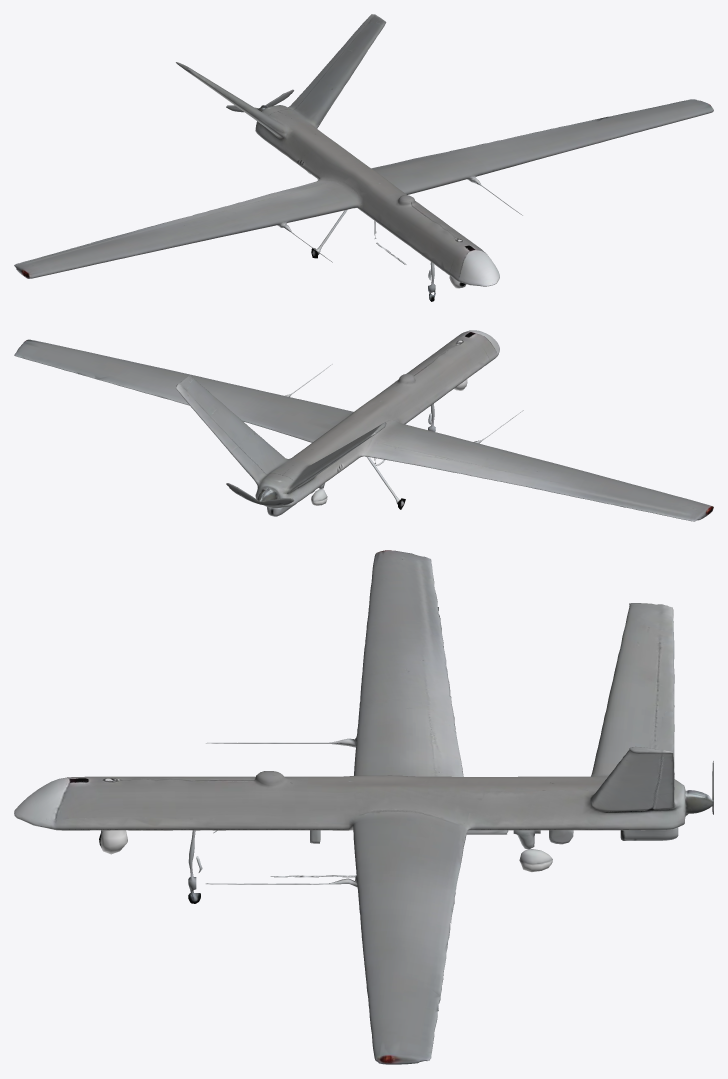
The model's file is orion.glb.
3 renders of one model, top to bottom at view 1: azimuth 30°, elevation 25°; view 2: azimuth 150°, elevation 25°; view 3: azimuth 270°, elevation 25°, orthographic. The views are drawn at different scales.
Parts seen in each view (by area): view 1: Object_2; view 2: Object_2; view 3: Object_2.
Boxes of the visible parts, bbox=[...] form: Object_2: bbox=[14, 14, 713, 301]; Object_2: bbox=[14, 330, 713, 521]; Object_2: bbox=[14, 550, 713, 1064].
Size of the model in its own units: 1.9 by 0.4024 by 1.11.
1 material, 1 textured.
